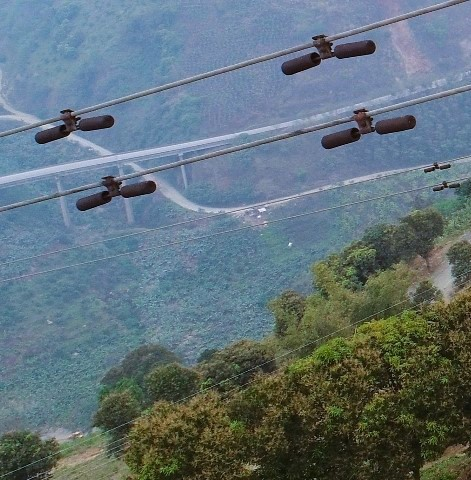Shockproof hammer: (269, 23, 380, 84), (316, 101, 421, 157), (26, 94, 122, 148), (72, 164, 161, 215)
